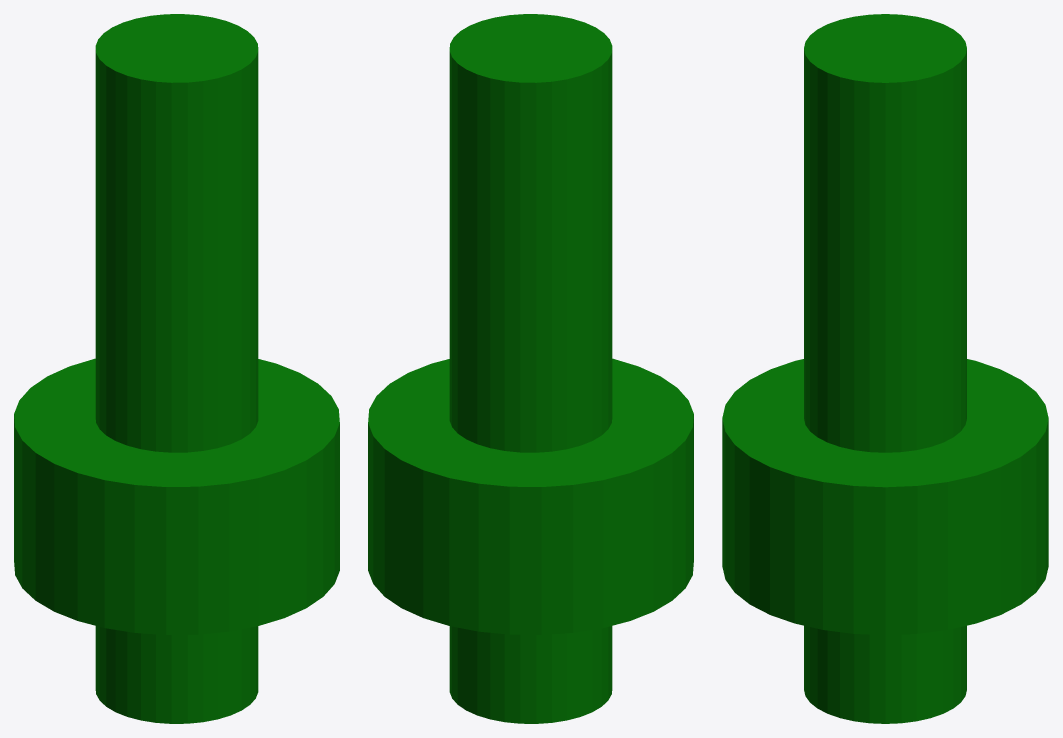
Rendered from GREEN_BUOY.dae.
3 views of the same model, side by side, from view 1: azimuth 30°, elevation 25°; view 2: azimuth 150°, elevation 25°; view 3: azimuth 270°, elevation 25° (orthographic).
Parts seen in each view (by area): view 1: Cylinder_001, Cylinder; view 2: Cylinder_001, Cylinder; view 3: Cylinder_001, Cylinder.
Boxes of the visible parts, <box> form: Cylinder_001: <box>95,14,258,723</box>; Cylinder: <box>14,358,339,634</box>; Cylinder_001: <box>449,14,612,723</box>; Cylinder: <box>368,358,693,634</box>; Cylinder_001: <box>804,14,966,723</box>; Cylinder: <box>722,359,1048,635</box>.
Size of the model in its own units: 1.2 by 1.2 by 2.6.
